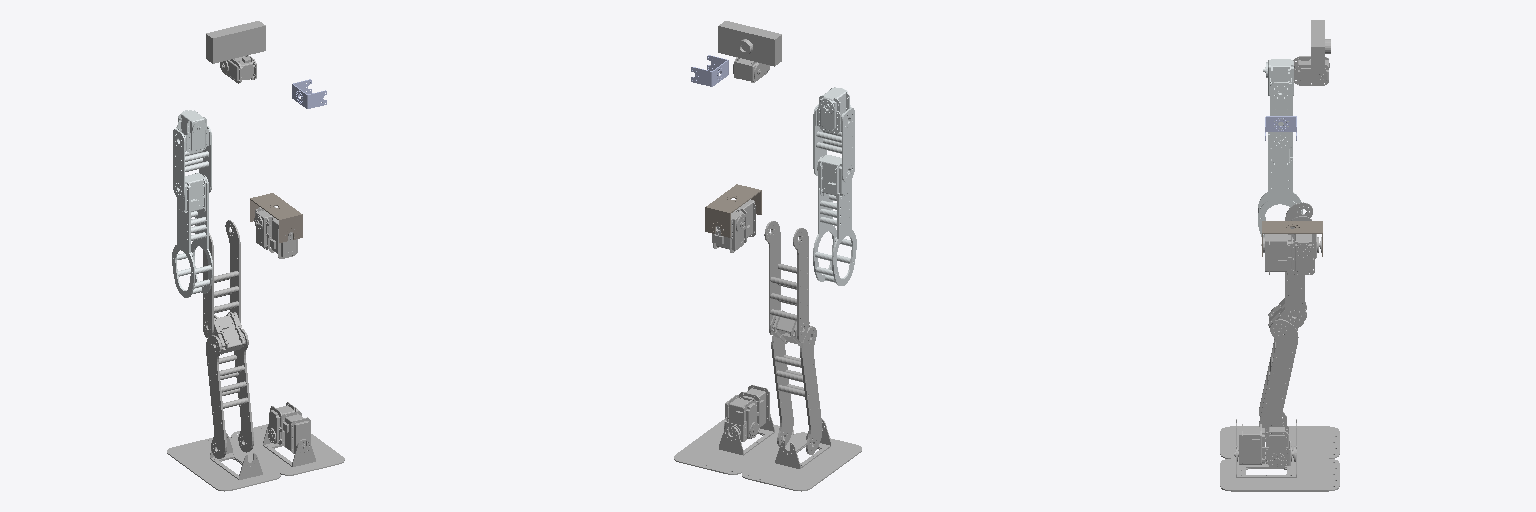
--- Render facts (derived) ---
The picture shows the robot from 3 angles, left to right: view 1: azimuth 30°, elevation 25°; view 2: azimuth 150°, elevation 25°; view 3: azimuth 270°, elevation 25°; orthographic projection.
Robot: SAKURA — 21 links, 20 joints (19 continuous, 1 fixed); root link world; default pose: every joint at zero.
Links seen in each view (by area): view 1: LLEG3, LARM2, LFOOT, LLEG2, HEAD, LARM1, RFOOT, RLEG4, RLEG0, RLEG1, RARM0; view 2: LFOOT, LARM2, LLEG2, LLEG3, RFOOT, LARM1, HEAD, RLEG4, RLEG0, RLEG1, RARM0; view 3: RFOOT, LLEG3, RLEG4, LFOOT, RLEG1, LARM1, LARM2, LLEG2, HEAD, RLEG0.
Boxes of the visible links, x1,y1,x2,y2 form: LLEG3: [206, 329, 253, 458]; LARM2: [172, 173, 212, 297]; LFOOT: [167, 433, 280, 491]; LLEG2: [203, 220, 245, 354]; HEAD: [206, 21, 265, 83]; LARM1: [173, 110, 211, 199]; RFOOT: [231, 424, 344, 475]; RLEG4: [268, 402, 310, 453]; RLEG0: [250, 193, 302, 242]; RLEG1: [254, 206, 297, 258]; RARM0: [292, 79, 326, 108]; LFOOT: [742, 419, 861, 491]; LARM2: [813, 155, 856, 285]; LLEG2: [764, 221, 810, 346]; LLEG3: [771, 326, 822, 454]; RFOOT: [674, 414, 793, 474]; LARM1: [813, 87, 854, 182]; HEAD: [718, 21, 781, 82]; RLEG4: [724, 385, 769, 441]; RLEG0: [705, 184, 761, 237]; RLEG1: [712, 199, 755, 252]; RARM0: [691, 55, 728, 86]; RFOOT: [1220, 446, 1339, 491]; LLEG3: [1259, 306, 1298, 437]; RLEG4: [1234, 424, 1295, 467]; LFOOT: [1220, 419, 1339, 458]; RLEG1: [1261, 234, 1321, 274]; LARM1: [1263, 59, 1293, 151]; LARM2: [1258, 132, 1302, 236]; LLEG2: [1268, 202, 1312, 331]; HEAD: [1293, 20, 1330, 85]; RLEG0: [1262, 221, 1322, 256].
Size in the robot's own frame: 0.291 by 0.208 by 0.8159 metres.
11 mesh visuals loaded from 20 distinct referenced files (11 binary STL); not drawn: 9 (reference not matched to a file when rendering).

The robot description file, URDF, robot "SAKURA":
<?xml version="1.0"?>
<robot
  name="SAKURA">
  <gazebo>
    <plugin filename="libgazebo_ros_control.so" name="gazebo_ros_control">
      <robotNamespace>/SAKURA</robotNamespace>
    </plugin>
  </gazebo>
  <gazebo reference="J_HEAD">
	<stopErp>0.2</stopErp>
  </gazebo>  
  <gazebo reference="J_LARM0">
	<stopErp>0.2</stopErp>
  </gazebo>  
  <gazebo reference="J_LARM1">
	<stopErp>0.2</stopErp>
  </gazebo>  
  <gazebo reference="J_LARM2">
	<stopErp>0.2</stopErp>
  </gazebo>  
  <gazebo reference="J_RARM0">
	<stopErp>0.2</stopErp>
  </gazebo>  
  <gazebo reference="J_RARM1">
	<stopErp>0.2</stopErp>
  </gazebo>  
  <gazebo reference="J_LLEG0">
	<stopErp>0.2</stopErp>
  </gazebo>  
  <gazebo reference="J_LLEG1">
	<stopErp>0.2</stopErp>
  </gazebo>  
  <gazebo reference="J_LLEG2">
	<stopErp>0.2</stopErp>
  </gazebo>  
  <gazebo reference="J_LLEG3">
	<stopErp>0.2</stopErp>
  </gazebo>  
  <gazebo reference="J_LLEG4">
	<stopErp>0.2</stopErp>
  </gazebo>  
  <gazebo reference="J_RLEG0">
	<stopErp>0.2</stopErp>
  </gazebo>  
  <gazebo reference="J_RLEG1">
	<stopErp>0.2</stopErp>
  </gazebo>  
  <gazebo reference="J_RLEG2">
	<stopErp>0.2</stopErp>
  </gazebo>  
  <gazebo reference="J_RLEG3">
	<stopErp>0.2</stopErp>
  </gazebo>  
  <gazebo reference="J_RLEG4">
	<stopErp>0.2</stopErp>
  </gazebo> 
  <gazebo reference="J_RARM2">
	<stopErp>0.2</stopErp>
  </gazebo> 
  <gazebo reference="J_LFOOT">
	<stopErp>0.2</stopErp>
  </gazebo>  
  <gazebo reference="J_RFOOT">
	<stopErp>0.2</stopErp>
  </gazebo>  
  <gazebo reference="RFOOT">
    <mu1>0.2</mu1>
    <mu2>0.2</mu2>
  </gazebo>
  <gazebo reference="LFOOT">
    <mu1>0.2</mu1>
    <mu2>0.2</mu2>
  </gazebo>
  <link name="world">  </link>
  <link
    name="TRUNK">
    <inertial>
      <origin
        xyz="-0.000142944293532541 -0.0159940135836359 0.119253638413231"
        rpy="0 0 0" />
      <mass
        value="1.4778155091901" />
      <inertia
        ixx="0.0125398154437975"
        ixy="-2.68478156217668E-06"
        ixz="-7.17353402812125E-06"
        iyy="0.016695640033345"
        iyz="0.000776177026664091"
        izz="0.01567882258573842" />
    </inertial>
    <visual>
      <origin
        xyz="0 0 0"
        rpy="0 0 0" />
      <geometry>
        <mesh
          filename="package://sakura_pkg/meshes/TRUNK.STL" />
      </geometry>
      <material
        name="">
        <color
          rgba="0.752941176470588 0.752941176470588 0.752941176470588 1" />
      </material>
    </visual>
  </link>
  <joint name="fixed" type="fixed">
    <parent link="world"/>
    <child link="TRUNK"/>
    <origin xyz="0 0 0.48" rpy="0 0 0"/>
  </joint>
  <link
    name="HEAD">
    <inertial>
      <origin
        xyz="-0.0038811 0.012249 0.048965"
        rpy="0 0 0" />
      <mass
        value="0.21462" />
      <inertia
        ixx="0.00010122"
        ixy="8.917E-07"
        ixz="4.6738E-06"
        iyy="9.789E-05"
        iyz="-1.8633E-05"
        izz="3.7787E-06" />
    </inertial>
    <visual>
      <origin
        xyz="0 0 0"
        rpy="0 0 0" />
      <geometry>
        <mesh
          filename="package://sakura_pkg/meshes/HEAD.STL" />
      </geometry>
      <material
        name="">
        <color
          rgba="0.75294 0.75294 0.75294 1" />
      </material>
    </visual>
    <collision>
      <origin
        xyz="0 0 0"
        rpy="0 0 0" />
      <geometry>
        <mesh
          filename="package://sakura_pkg/meshes/HEAD.STL" />
      </geometry>
    </collision>
  </link>
  <joint
    name="J_HEAD"
    type="continuous">
    <origin
      xyz="0.0016 0.01125 0.2484"
      rpy="-1.2005E-15 -9.4278E-17 -2.3904E-16" />
    <parent
      link="TRUNK" />
    <child
      link="HEAD" />
    <axis
      xyz="0 0 1" />
    <limit
      effort="10"
      velocity="8.58" />
    <dynamics 
	  damping="0.7"
	  friction="0.5"/>
  </joint>
  <link
    name="LARM0">
    <inertial>
      <origin
        xyz="4.16333634234434E-17 2.77555756156289E-17 0.0103025666414173"
        rpy="0 0 0" />
      <mass
        value="0.0066175226097181" />
      <inertia
        ixx="0"
        ixy="0"
        ixz="0"
        iyy="0"
        iyz="0"
        izz="0" />
    </inertial>
    <visual>
      <origin
        xyz="0 0 0"
        rpy="0 0 0" />
      <geometry>
        <mesh
          filename="package://sakura_pkg/meshes/LARM0.STL" />
      </geometry>
      <material
        name="">
        <color
          rgba="0.792156862745098 0.819607843137255 0.933333333333333 1" />
      </material>
    </visual>
    <collision>
      <origin
        xyz="0 0 0"
        rpy="0 0 0" />
      <geometry>
        <mesh
          filename="package://sakura_pkg/meshes/LARM0.STL" />
      </geometry>
    </collision>
  </link>
  <joint
    name="J_LARM0"
    type="continuous">
    <origin
      xyz="-0.0935 -0.038 0.209"
      rpy="1.5708 3.14159 -1.5708" />
    <parent
      link="TRUNK" />
    <child
      link="LARM0" />
    <axis
      xyz="0 0 -1" />
    <limit
      effort="10"
      velocity="8.58" />
    <dynamics 
	  damping="0.7"
	  friction="0.5"/>
  </joint>
  <link
    name="LARM1">
    <inertial>
      <origin
        xyz="-0.000203905909046856 -0.0358166170046635 -0.030724518771744"
        rpy="0 0 0" />
      <mass
        value="0.386889741732442" />
      <inertia
        ixx="0.000319462933467775"
        ixy="-7.00859671208955E-06"
        ixz="-6.33921748509821E-09"
        iyy="8.0452262350149E-05"
        iyz="6.46973244600118E-07"
        izz="0.000386423060557297" />
    </inertial>
    <visual>
      <origin
        xyz="0 0 0"
        rpy="0 0 0" />
      <geometry>
        <mesh
          filename="package://sakura_pkg/meshes/LARM1.STL" />
      </geometry>
      <material
        name="">
        <color
          rgba="0.898039215686275 0.92156862745098 0.929411764705882 1" />
      </material>
    </visual>
    <collision>
      <origin
        xyz="0 0 0"
        rpy="0 0 0" />
      <geometry>
        <mesh
          filename="package://sakura_pkg/meshes/LARM1.STL" />
      </geometry>
    </collision>
  </link>
  <joint
    name="J_LARM1"
    type="continuous">
    <origin
      xyz="-0.0308 0 0.036"
      rpy="3.1416 1.5708 0" />
    <parent
      link="LARM0" />
    <child
      link="LARM1" />
    <axis
      xyz="0 0 1" />
    <limit
      effort="10"
      velocity="8.58" />
    <dynamics 
	  damping="0.7"
	  friction="0.5"/>
  </joint>
  <link
    name="LARM2">
    <inertial>
      <origin
        xyz="-0.000946892853796732 -0.0604743903550126 -0.030549305382329"
        rpy="0 0 0" />
      <mass
        value="0.417770884687889" />
      <inertia
        ixx="0.00130365609096481"
        ixy="-2.20058971275383E-05"
        ixz="-1.13235654810576E-07"
        iyy="7.40162277479168E-05"
        iyz="-4.76741794550902E-06"
        izz="0.00130522583526536" />
    </inertial>
    <visual>
      <origin
        xyz="0 0 0"
        rpy="0 0 0" />
      <geometry>
        <mesh
          filename="package://sakura_pkg/meshes/LARM2.STL" />
      </geometry>
      <material
        name="">
        <color
          rgba="0.898039215686275 0.92156862745098 0.929411764705882 1" />
      </material>
    </visual>
    <collision>
      <origin
        xyz="0 0 0"
        rpy="0 0 0" />
      <geometry>
        <mesh
          filename="package://sakura_pkg/meshes/LARM2.STL" />
      </geometry>
    </collision>
  </link>
  <joint
    name="J_LARM2"
    type="continuous">
    <origin
      xyz="0.0307 -0.1235 -0.0308"
      rpy="0 1.5708 0" />
    <parent
      link="LARM1" />
    <child
      link="LARM2" />
    <axis
      xyz="0 0 1" />
    <limit
      effort="10"
      velocity="8.58" />
    <dynamics 
	  damping="0.7"
	  friction="0.5"/>
  </joint>
  <link
    name="RARM0">
    <inertial>
      <origin
        xyz="-4.16333634234434E-17 0 0.0103025666414173"
        rpy="0 0 0" />
      <mass
        value="0.00661752260971814" />
      <inertia
        ixx="0"
        ixy="0"
        ixz="0"
        iyy="0"
        iyz="0"
        izz="0" />
    </inertial>
    <visual>
      <origin
        xyz="0 0 0"
        rpy="0 0 0" />
      <geometry>
        <mesh
          filename="package://sakura_pkg/meshes/RARM0.STL" />
      </geometry>
      <material
        name="">
        <color
          rgba="0.792156862745098 0.819607843137255 0.933333333333333 1" />
      </material>
    </visual>
    <collision>
      <origin
        xyz="0 0 0"
        rpy="0 0 0" />
      <geometry>
        <mesh
          filename="package://sakura_pkg/meshes/RARM0.STL" />
      </geometry>
    </collision>
  </link>
  <joint
    name="J_RARM0"
    type="continuous">
    <origin
      xyz="0.0935 -0.038 0.209"
      rpy="-1.5708 -6.1121E-16 -1.5708" />
    <parent
      link="TRUNK" />
    <child
      link="RARM0" />
    <axis
      xyz="0 0 1" />
    <limit
      effort="10"
      velocity="8.58" />
    <dynamics 
	  damping="0.7"
	  friction="0.5"/>
  </joint>
  <link
    name="RARM1">
    <inertial>
      <origin
        xyz="-0.00020391 -0.035817 -0.030725"
        rpy="0 0 0" />
      <mass
        value="0.38689" />
      <inertia
        ixx="0.00031946"
        ixy="-7.0086E-06"
        ixz="-6.3392E-09"
        iyy="8.0452E-05"
        iyz="6.4697E-07"
        izz="0.00038642" />
    </inertial>
    <visual>
      <origin
        xyz="0 0 0"
        rpy="0 0 0" />
      <geometry>
        <mesh
          filename="package://sakura_pkg/meshes/RARM1.STL" />
      </geometry>
      <material
        name="">
        <color
          rgba="0.89804 0.92157 0.92941 1" />
      </material>
    </visual>
    <collision>
      <origin
        xyz="0 0 0"
        rpy="0 0 0" />
      <geometry>
        <mesh
          filename="package://sakura_pkg/meshes/RARM1.STL" />
      </geometry>
    </collision>
  </link>
  <joint
    name="J_RARM1"
    type="continuous">
    <origin
      xyz="-0.0308 0 0.036"
      rpy="3.1416 1.5708 0" />
    <parent
      link="RARM0" />
    <child
      link="RARM1" />
    <axis
      xyz="0 0 1" />
    <limit
      effort="10"
      velocity="8.58" />
    <dynamics 
	  damping="0.7"
	  friction="0.5"/>
  </joint>
  <link
    name="RARM2">
    <inertial>
      <origin
        xyz="-0.000946892853796774 -0.0604743903550127 -0.0305493053823289"
        rpy="0 0 0" />
      <mass
        value="0.417770884687889" />
      <inertia
        ixx="0.00130365609096481"
        ixy="-2.20058971275389E-05"
        ixz="-1.13235654810633E-07"
        iyy="7.40162277479169E-05"
        iyz="-4.76741794550966E-06"
        izz="0.00130522583526536" />
    </inertial>
    <visual>
      <origin
        xyz="0 0 0"
        rpy="0 0 0" />
      <geometry>
        <mesh
          filename="package://sakura_pkg/meshes/RARM2.STL" />
      </geometry>
      <material
        name="">
        <color
          rgba="0.898039215686275 0.92156862745098 0.929411764705882 1" />
      </material>
    </visual>
    <collision>
      <origin
        xyz="0 0 0"
        rpy="0 0 0" />
      <geometry>
        <mesh
          filename="package://sakura_pkg/meshes/RARM2.STL" />
      </geometry>
    </collision>
  </link>
  <joint
    name="J_RARM2"
    type="continuous">
    <origin
      xyz="0.0307 -0.1235 -0.0308"
      rpy="0 1.5708 0" />
    <parent
      link="RARM1" />
    <child
      link="RARM2" />
    <axis
      xyz="0 0 -1" />
    <limit
      effort="10"
      velocity="8.58" />
    <dynamics 
	  damping="0.7"
	  friction="0.5"/>
  </joint>
  <link
    name="LLEG0">
    <inertial>
      <origin
        xyz="1.38777878078145E-17 1.38777878078145E-17 0.012339611662812"
        rpy="0 0 0" />
      <mass
        value="0.137487098095279" />
      <inertia
        ixx="0"
        ixy="0"
        ixz="0"
        iyy="0"
        iyz="0"
        izz="0" />
    </inertial>
    <visual>
      <origin
        xyz="0 0 0"
        rpy="0 0 0" />
      <geometry>
        <mesh
          filename="package://sakura_pkg/meshes/LLEG0.STL" />
      </geometry>
      <material
        name="">
        <color
          rgba="0.650980392156863 0.619607843137255 0.588235294117647 1" />
      </material>
    </visual>
    <collision>
      <origin
        xyz="0 0 0"
        rpy="0 0 0" />
      <geometry>
        <mesh
          filename="package://sakura_pkg/meshes/LLEG0.STL" />
      </geometry>
    </collision>
  </link>
  <joint
    name="J_LLEG0"
    type="continuous">
    <origin
      xyz="-0.055 -0.018 -0.005"
      rpy="-3.14159265358979 1.21430643318376E-16 -1.5707963267949" />
    <parent
      link="TRUNK" />
    <child
      link="LLEG0" />
    <axis
      xyz="0 0 -1" />
    <limit
      effort="10"
      velocity="8.58" />
    <dynamics 
	  damping="0.7"
	  friction="0.5"/>
  </joint>
  <link
    name="LLEG1">
    <inertial>
      <origin
        xyz="-4.90216563097182E-05 -0.014933566350856 -0.0542307430726147"
        rpy="0 0 0" />
      <mass
        value="0.484317524341268" />
      <inertia
        ixx="0.000258532465487086"
        ixy="-1.08430216395215E-08"
        ixz="-4.93107012410751E-07"
        iyy="0.000256538006237082"
        iyz="8.86337248194806E-06"
        izz="4.00980160512074E-06" />
    </inertial>
    <visual>
      <origin
        xyz="0 0 0"
        rpy="0 0 0" />
      <geometry>
        <mesh
          filename="package://sakura_pkg/meshes/LLEG1.STL" />
      </geometry>
      <material
        name="">
        <color
          rgba="0.752941176470588 0.752941176470588 0.752941176470588 1" />
      </material>
    </visual>
    <collision>
      <origin
        xyz="0 0 0"
        rpy="0 0 0" />
      <geometry>
        <mesh
          filename="package://sakura_pkg/meshes/LLEG1.STL" />
      </geometry>
    </collision>
  </link>
  <joint
    name="J_LLEG1"
    type="continuous">
    <origin
      xyz="0.056 0 0.036"
      rpy="-1.5707963267949 -1.22338662637834E-16 -1.5707963267949" />
    <parent
      link="LLEG0" />
    <child
      link="LLEG1" />
    <axis
      xyz="0 0 -1" />
    <limit
      effort="10"
      velocity="8.58" />
    <dynamics 
	  damping="0.7"
	  friction="0.5"/>
  </joint>
  <link
    name="LLEG2">
    <inertial>
      <origin
        xyz="0.0896135033902749 -0.121669815792639 -0.0285739776731877"
        rpy="0 0 0" />
      <mass
        value="0.429581814867276" />
      <inertia
        ixx="0.000739443276879588"
        ixy="0.000469298592224479"
        ixz="-4.17657698668898E-06"
        iyy="0.00045781924000273"
        iyz="4.49877955818474E-06"
        izz="0.00100793675092908" />
    </inertial>
    <visual>
      <origin
        xyz="0 0 0"
        rpy="0 0 0" />
      <geometry>
        <mesh
          filename="package://sakura_pkg/meshes/LLEG2.STL" />
      </geometry>
      <material
        name="">
        <color
          rgba="0.752941176470588 0.752941176470588 0.752941176470588 1" />
      </material>
    </visual>
    <collision>
      <origin
        xyz="0 0 0"
        rpy="0 0 0" />
      <geometry>
        <mesh
          filename="package://sakura_pkg/meshes/LLEG2.STL" />
      </geometry>
    </collision>
  </link>
  <joint
    name="J_LLEG2"
    type="continuous">
    <origin
      xyz="0.0289999999999999 0 -0.0750000000000234"
      rpy="-1.5707963267949 0.78539816339745 -1.5707963267949" />
    <parent
      link="LLEG1" />
    <child
      link="LLEG2" />
    <axis
      xyz="0 0 1" />
    <limit
      effort="10"
      velocity="8.58" />
    <dynamics 
	  damping="0.7"
	  friction="0.5"/>
  </joint>
  <link
    name="LLEG3">
    <inertial>
      <origin
        xyz="0.0938607247050214 0.021121469241447 -0.0266864244548486"
        rpy="0 0 0" />
      <mass
        value="0.253457988874213" />
      <inertia
        ixx="0.000157893827081503"
        ixy="4.33507693026071E-06"
        ixz="2.38137513758817E-06"
        iyy="0.000215254509125973"
        iyz="4.49605098935315E-06"
        izz="7.90936329999813E-05" />
    </inertial>
    <visual>
      <origin
        xyz="0 0 0"
        rpy="0 0 0" />
      <geometry>
        <mesh
          filename="package://sakura_pkg/meshes/LLEG3.STL" />
      </geometry>
      <material
        name="">
        <color
          rgba="0.752941176470588 0.752941176470588 0.752941176470588 1" />
      </material>
    </visual>
    <collision>
      <origin
        xyz="0 0 0"
        rpy="0 0 0" />
      <geometry>
        <mesh
          filename="package://sakura_pkg/meshes/LLEG3.STL" />
      </geometry>
    </collision>
  </link>
  <joint
    name="J_LLEG3"
    type="continuous">
    <origin
      xyz="0.112429978208667 -0.169643181644254 0.00160000000000024"
      rpy="-0.0320557226319531 0.0283578707512148 -1.01721646459287" />
    <parent
      link="LLEG2" />
    <child
      link="LLEG3" />
    <axis
      xyz="0.0283540701513945 0.0320373469653184 -0.999084408398647" />
    <limit
      effort="10"
      velocity="8.58" />
    <dynamics 
	  damping="0.7"
	  friction="0.5"/>
  </joint>
  <link
    name="LLEG4">
    <inertial>
      <origin
        xyz="0.0207692569273853 -0.0149335663508559 -0.0309509783436903"
        rpy="0 0 0" />
      <mass
        value="0.484317524341267" />
      <inertia
        ixx="4.00980160512071E-06"
        ixy="8.86337248194725E-06"
        ixz="4.93107012410836E-07"
        iyy="0.000256538006237082"
        iyz="1.08430216395228E-08"
        izz="0.000258532465487085" />
    </inertial>
    <visual>
      <origin
        xyz="0 0 0"
        rpy="0 0 0" />
      <geometry>
        <mesh
          filename="package://sakura_pkg/meshes/LLEG4.STL" />
      </geometry>
      <material
        name="">
        <color
          rgba="0.752941176470588 0.752941176470588 0.752941176470588 1" />
      </material>
    </visual>
    <collision>
      <origin
        xyz="0 0 0"
        rpy="0 0 0" />
      <geometry>
        <mesh
          filename="package://sakura_pkg/meshes/LLEG4.STL" />
      </geometry>
    </collision>
  </link>
  <joint
    name="J_LLEG4"
    type="continuous">
    <origin
      xyz="0.19759 0.040682 0.007913"
      rpy="0.034963 0.024684 -1.339" />
    <parent
      link="LLEG3" />
    <child
      link="LLEG4" />
    <axis
      xyz="0 0 1" />
    <limit
      effort="10"
      velocity="8.58" />
    <dynamics 
	  damping="0.7"
	  friction="0.5"/>
  </joint>
  <link
    name="LFOOT">
    <inertial>
      <origin
        xyz="-0.00984398078216434 0.033081446163245 0.0742424926896279"
        rpy="0 0 0" />
      <mass
        value="0.474832547151362" />
      <inertia
        ixx="5.51319710395952E-05"
        ixy="8.95545085142721E-06"
        ixz="2.1883900378474E-05"
        iyy="5.73648543375659E-05"
        iyz="-1.93251189181957E-05"
        izz="1.80495475741546E-05" />
    </inertial>
    <visual>
      <origin
        xyz="0 0 0"
        rpy="0 0 0" />
      <geometry>
        <mesh
          filename="package://sakura_pkg/meshes/LFOOT.STL" />
      </geometry>
      <material
        name="">
        <color
          rgba="0.752941176470588 0.752941176470588 0.752941176470588 1" />
      </material>
    </visual>
    <collision>
      <origin
        xyz="0 0 0"
        rpy="0 0 0" />
      <geometry>
        <mesh
          filename="package://sakura_pkg/meshes/LFOOT.STL" />
      </geometry>
    </collision>
  </link>
  <joint
    name="J_LFOOT"
    type="continuous">
    <origin
      xyz="0.072 0 -0.031"
      rpy="0 -1.5708 0" />
    <parent
      link="LLEG4" />
    <child
      link="LFOOT" />
    <axis
      xyz="0 0 -1" />
    <limit
      effort="10"
      velocity="8.58" />
    <dynamics 
	  damping="0.7"
	  friction="0.5"/>
  </joint>
  <link
    name="RLEG0">
    <inertial>
      <origin
        xyz="0 1.38777878078145E-17 0.012339611662812"
        rpy="0 0 0" />
      <mass
        value="0.137487098095279" />
      <inertia
        ixx="0"
        ixy="0"
        ixz="0"
        iyy="0"
        iyz="0"
        izz="0" />
    </inertial>
    <visual>
      <origin
        xyz="0 0 0"
        rpy="0 0 0" />
      <geometry>
        <mesh
          filename="package://sakura_pkg/meshes/RLEG0.STL" />
      </geometry>
      <material
        name="">
        <color
          rgba="0.650980392156863 0.619607843137255 0.588235294117647 1" />
      </material>
    </visual>
    <collision>
      <origin
        xyz="0 0 0"
        rpy="0 0 0" />
      <geometry>
        <mesh
          filename="package://sakura_pkg/meshes/RLEG0.STL" />
      </geometry>
    </collision>
  </link>
  <joint
    name="J_RLEG0"
    type="continuous">
    <origin
      xyz="0.055 -0.018 -0.005"
      rpy="-3.14159265358979 1.21430643318376E-16 -1.5707963267949" />
    <parent
      link="TRUNK" />
    <child
      link="RLEG0" />
    <axis
      xyz="0 0 1" />
    <limit
      effort="10"
      velocity="8.58" />
    <dynamics 
	  damping="0.7"
	  friction="0.5"/>
  </joint>
  <link
    name="RLEG1">
    <inertial>
      <origin
        xyz="-4.9022E-05 -0.014934 -0.054231"
        rpy="0 0 0" />
      <mass
        value="0.48432" />
      <inertia
        ixx="0.00025853"
        ixy="-1.0843E-08"
        ixz="-4.9311E-07"
        iyy="0.00025654"
        iyz="8.8634E-06"
        izz="4.0098E-06" />
    </inertial>
    <visual>
      <origin
        xyz="0 0 0"
        rpy="0 0 0" />
      <geometry>
        <mesh
          filename="package://sakura_pkg/meshes/RLEG1.STL" />
      </geometry>
      <material
        name="">
        <color
          rgba="0.75294 0.75294 0.75294 1" />
      </material>
    </visual>
    <collision>
      <origin
        xyz="0 0 0"
        rpy="0 0 0" />
      <geometry>
        <mesh
          filename="package://sakura_pkg/meshes/RLEG1.STL" />
      </geometry>
    </collision>
  </link>
  <joint
    name="J_RLEG1"
    type="continuous">
    <origin
      xyz="0.056 0 0.036"
      rpy="-1.5707963267949 2.66239395980971E-16 -1.5707963267949" />
    <parent
      link="RLEG0" />
    <child
      link="RLEG1" />
    <axis
      xyz="0 0 1" />
    <limit
      effort="10"
      velocity="8.58" />
    <dynamics 
	  damping="0.7"
	  friction="0.5"/>
  </joint>
  <link
    name="RLEG2">
    <inertial>
      <origin
        xyz="0.089613503390275 -0.121669815792639 -0.0285739776731877"
        rpy="0 0 0" />
      <mass
        value="0.429581814867276" />
      <inertia
        ixx="0.000739443276879589"
        ixy="0.00046929859222448"
        ixz="-4.17657698668821E-06"
        iyy="0.000457819240002731"
        iyz="4.49877955818371E-06"
        izz="0.00100793675092908" />
    </inertial>
    <visual>
      <origin
        xyz="0 0 0"
        rpy="0 0 0" />
      <geometry>
        <mesh
          filename="package://sakura_pkg/meshes/RLEG2.STL" />
      </geometry>
      <material
        name="">
        <color
          rgba="0.752941176470588 0.752941176470588 0.752941176470588 1" />
      </material>
    </visual>
    <collision>
      <origin
        xyz="0 0 0"
        rpy="0 0 0" />
      <geometry>
        <mesh
          filename="package://sakura_pkg/meshes/RLEG2.STL" />
      </geometry>
    </collision>
  </link>
  <joint
    name="J_RLEG2"
    type="continuous">
    <origin
      xyz="0.0290000000000001 0 -0.075"
      rpy="-1.5707963267949 0.78539816339745 -1.5707963267949" />
    <parent
      link="RLEG1" />
    <child
      link="RLEG2" />
    <axis
      xyz="0 0 1" />
    <limit
      effort="10"
      velocity="8.58" />
    <dynamics 
	  damping="0.7"
	  friction="0.5"/>
  </joint>
  <link
    name="RLEG3">
    <inertial>
      <origin
        xyz="0.093861 0.021121 -0.026686"
        rpy="0 0 0" />
      <mass
        value="0.25346" />
      <inertia
        ixx="0.00015789"
        ixy="4.3351E-06"
        ixz="2.3814E-06"
        iyy="0.00021525"
        iyz="4.4961E-06"
        izz="7.9094E-05" />
    </inertial>
    <visual>
      <origin
        xyz="0 0 0"
        rpy="0 0 0" />
      <geometry>
        <mesh
          filename="package://sakura_pkg/meshes/RLEG3.STL" />
      </geometry>
      <material
        name="">
        <color
          rgba="0.75294 0.75294 0.75294 1" />
      </material>
    </visual>
    <collision>
      <origin
        xyz="0 0 0"
        rpy="0 0 0" />
      <geometry>
        <mesh
          filename="package://sakura_pkg/meshes/RLEG3.STL" />
      </geometry>
    </collision>
  </link>
  <joint
    name="J_RLEG3"
    type="continuous">
    <origin
      xyz="0.112429978208668 -0.169643181644253 0.00160000000000014"
      rpy="-0.0320557226319534 0.0283578707512146 -1.01721646459286" />
    <parent
      link="RLEG2" />
    <child
      link="RLEG3" />
    <axis
      xyz="0.0283540701513948 0.0320373469653193 -0.999084408398647" />
    <limit
      effort="10"
      velocity="8.58" />
    <dynamics 
	  damping="0.7"
	  friction="0.5"/>
  </joint>
  <link
    name="RLEG4">
    <inertial>
      <origin
        xyz="0.0207692569273853 -0.014933566350856 -0.0309509783436903"
        rpy="0 0 0" />
      <mass
        value="0.484317524341268" />
      <inertia
        ixx="4.00980160512071E-06"
        ixy="8.86337248194835E-06"
        ixz="4.93107012410999E-07"
        iyy="0.000256538006237082"
        iyz="1.08430216395282E-08"
        izz="0.000258532465487085" />
    </inertial>
    <visual>
      <origin
        xyz="0 0 0"
        rpy="0 0 0" />
      <geometry>
        <mesh
          filename="package://sakura_pkg/meshes/RLEG4.STL" />
      </geometry>
      <material
        name="">
        <color
          rgba="0.752941176470588 0.752941176470588 0.752941176470588 1" />
      </material>
    </visual>
    <collision>
      <origin
        xyz="0 0 0"
        rpy="0 0 0" />
      <geometry>
        <mesh
          filename="package://sakura_pkg/meshes/RLEG4.STL" />
      </geometry>
    </collision>
  </link>
  <joint
    name="J_RLEG4"
    type="continuous">
    <origin
      xyz="0.19759 0.040682 0.007913"
      rpy="0.034963 0.024684 -1.339" />
    <parent
      link="RLEG3" />
    <child
      link="RLEG4" />
    <axis
      xyz="0 0 1" />
    <limit
      effort="10"
      velocity="8.58" />
    <dynamics 
	  damping="0.7"
	  friction="0.5"/>
  </joint>
  <link
    name="RFOOT">
    <inertial>
      <origin
        xyz="0.009844 0.033081 0.074242"
        rpy="0 0 0" />
      <mass
        value="0.47483" />
      <inertia
        ixx="5.5132E-05"
        ixy="-8.9555E-06"
        ixz="-2.1884E-05"
        iyy="5.7365E-05"
        iyz="-1.9325E-05"
        izz="1.805E-05" />
    </inertial>
    <visual>
      <origin
        xyz="0 0 0"
        rpy="0 0 0" />
      <geometry>
        <mesh
          filename="package://sakura_pkg/meshes/RFOOT.STL" />
      </geometry>
      <material
        name="">
        <color
          rgba="0.75294 0.75294 0.75294 1" />
      </material>
    </visual>
    <collision>
      <origin
        xyz="0 0 0"
        rpy="0 0 0" />
      <geometry>
        <mesh
          filename="package://sakura_pkg/meshes/RFOOT.STL" />
      </geometry>
    </collision>
  </link>
  <joint
    name="J_RFOOT"
    type="continuous">
    <origin
      xyz="0.072 0 -0.031"
      rpy="0 -1.5708 0" />
    <parent
      link="RLEG4" />
    <child
      link="RFOOT" />
    <axis
      xyz="0 0 -1" />
    <limit
      effort="10"
      velocity="8.58" />
    <dynamics 
	  damping="0.7"
	  friction="0.5"/>
  </joint>  

  
  <transmission name="T_RARM0">
	<type>transmission_interface/SimpleTransmission</type>
	<joint name="J_RARM0">
	  <hardwareInterface>hardware_interface/EffortJointInterface</hardwareInterface>
	</joint>
	<actuator name="M_RARM0">
	  <hardwareInterface>hardware_interface/EffortJointInterface</hardwareInterface>
	  <mechanicalReduction>1</mechanicalReduction>
	</actuator>
  </transmission>

  <transmission name="T_RARM1">
	<type>transmission_interface/SimpleTransmission</type>
	<joint name="J_RARM1">
	  <hardwareInterface>hardware_interface/EffortJointInterface</hardwareInterface>
	</joint>
	<actuator name="M_RARM1">
	  <hardwareInterface>hardware_interface/EffortJointInterface</hardwareInterface>
	  <mechanicalReduction>1</mechanicalReduction>
	</actuator>
  </transmission>
  
    <transmission name="T_RARM2">
	<type>transmission_interface/SimpleTransmission</type>
	<joint name="J_RARM2">
	  <hardwareInterface>hardware_interface/EffortJointInterface</hardwareInterface>
	</joint>
	<actuator name="M_RARM2">
	  <hardwareInterface>hardware_interface/EffortJointInterface</hardwareInterface>
	  <mechanicalReduction>1</mechanicalReduction>
	</actuator>
  </transmission>
  
    <transmission name="T_LARM0">
	<type>transmission_interface/SimpleTransmission</type>
	<joint name="J_LARM0">
	  <hardwareInterface>hardware_interface/EffortJointInterface</hardwareInterface>
	</joint>
	<actuator name="M_LARM0">
	  <hardwareInterface>hardware_interface/EffortJointInterface</hardwareInterface>
	  <mechanicalReduction>1</mechanicalReduction>
	</actuator>
  </transmission>

  <transmission name="T_LARM1">
	<type>transmission_interface/SimpleTransmission</type>
	<joint name="J_LARM1">
	  <hardwareInterface>hardware_interface/EffortJointInterface</hardwareInterface>
	</joint>
	<actuator name="M_LARM1">
	  <hardwareInterface>hardware_interface/EffortJointInterface</hardwareInterface>
	  <mechanicalReduction>1</mechanicalReduction>
	</actuator>
  </transmission>
  
    <transmission name="T_LARM2">
	<type>transmission_interface/SimpleTransmission</type>
	<joint name="J_LARM2">
	  <hardwareInterface>hardware_interface/EffortJointInterface</hardwareInterface>
	</joint>
	<actuator name="M_LARM2">
	  <hardwareInterface>hardware_interface/EffortJointInterface</hardwareInterface>
	  <mechanicalReduction>1</mechanicalReduction>
	</actuator>
  </transmission>

  
  
  
    <transmission name="T_RLEG0">
	<type>transmission_interface/SimpleTransmission</type>
	<joint name="J_RLEG0">
	  <hardwareInterface>hardware_interface/EffortJointInterface</hardwareInterface>
	</joint>
	<actuator name="M_RLEG0">
	  <hardwareInterface>hardware_interface/EffortJointInterface</hardwareInterface>
	  <mechanicalReduction>1</mechanicalReduction>
	</actuator>
  </transmission>

  <transmission name="T_RLEG1">
	<type>transmission_interface/SimpleTransmission</type>
	<joint name="J_RLEG1">
	  <hardwareInterface>hardware_interface/EffortJointInterface</hardwareInterface>
	</joint>
	<actuator name="M_RLEG1">
	  <hardwareInterface>hardware_interface/EffortJointInterface</hardwareInterface>
	  <mechanicalReduction>1</mechanicalReduction>
	</actuator>
  </transmission>
  
    <transmission name="T_RLEG2">
	<type>transmission_interface/SimpleTransmission</type>
	<joint name="J_RLEG2">
	  <hardwareInterface>hardware_interface/EffortJointInterface</hardwareInterface>
	</joint>
	<actuator name="M_RLEG2">
	  <hardwareInterface>hardware_interface/EffortJointInterface</hardwareInterface>
	  <mechanicalReduction>1</mechanicalReduction>
	</actuator>
  </transmission>
  
    <transmission name="T_RLEG3">
	<type>transmission_interface/SimpleTransmission</type>
	<joint name="J_RLEG3">
	  <hardwareInterface>hardware_interface/EffortJointInterface</hardwareInterface>
	</joint>
	<actuator name="M_RLEG3">
	  <hardwareInterface>hardware_interface/EffortJointInterface</hardwareInterface>
	  <mechanicalReduction>1</mechanicalReduction>
	</actuator>
  </transmission>
  
   <transmission name="T_RLEG4">
	<type>transmission_interface/SimpleTransmission</type>
	<joint name="J_RLEG4">
	  <hardwareInterface>hardware_interface/EffortJointInterface</hardwareInterface>
	</joint>
	<actuator name="M_RLEG4">
	  <hardwareInterface>hardware_interface/EffortJointInterface</hardwareInterface>
	  <mechanicalReduction>1</mechanicalReduction>
	</actuator>
  </transmission>
  
  <transmission name="T_RFOOT">
	<type>transmission_interface/SimpleTransmission</type>
	<joint name="J_RFOOT">
	  <hardwareInterface>hardware_interface/EffortJointInterface</hardwareInterface>
	</joint>
	<actuator name="M_RFOOT">
	  <hardwareInterface>hardware_interface/EffortJointInterface</hardwareInterface>
	  <mechanicalReduction>1</mechanicalReduction>
	</actuator>
  </transmission>


    <transmission name="T_LLEG0">
	<type>transmission_interface/SimpleTransmission</type>
	<joint name="J_LLEG0">
	  <hardwareInterface>hardware_interface/EffortJointInterface</hardwareInterface>
	</joint>
	<actuator name="M_LLEG0">
	  <hardwareInterface>hardware_interface/EffortJointInterface</hardwareInterface>
	  <mechanicalReduction>1</mechanicalReduction>
	</actuator>
  </transmission>

  <transmission name="T_LLEG1">
	<type>transmission_interface/SimpleTransmission</type>
	<joint name="J_LLEG1">
	  <hardwareInterface>hardware_interface/EffortJointInterface</hardwareInterface>
	</joint>
	<actuator name="M_LLEG1">
	  <hardwareInterface>hardware_interface/EffortJointInterface</hardwareInterface>
	  <mechanicalReduction>1</mechanicalReduction>
	</actuator>
  </transmission>
  
    <transmission name="T_LLEG2">
	<type>transmission_interface/SimpleTransmission</type>
	<joint name="J_LLEG2">
	  <hardwareInterface>hardware_interface/EffortJointInterface</hardwareInterface>
	</joint>
	<actuator name="M_LLEG2">
	  <hardwareInterface>hardware_interface/EffortJointInterface</hardwareInterface>
	  <mechanicalReduction>1</mechanicalReduction>
	</actuator>
  </transmission>
  
    <transmission name="T_LLEG3">
	<type>transmission_interface/SimpleTransmission</type>
	<joint name="J_LLEG3">
	  <hardwareInterface>hardware_interface/EffortJointInterface</hardwareInterface>
	</joint>
	<actuator name="M_LLEG3">
	  <hardwareInterface>hardware_interface/EffortJointInterface</hardwareInterface>
	  <mechanicalReduction>1</mechanicalReduction>
	</actuator>
  </transmission>
  
   <transmission name="T_LLEG4">
	<type>transmission_interface/SimpleTransmission</type>
	<joint name="J_LLEG4">
	  <hardwareInterface>hardware_interface/EffortJointInterface</hardwareInterface>
	</joint>
	<actuator name="M_LLEG4">
	  <hardwareInterface>hardware_interface/EffortJointInterface</hardwareInterface>
	  <mechanicalReduction>1</mechanicalReduction>
	</actuator>
  </transmission>
  
  <transmission name="T_LFOOT">
	<type>transmission_interface/SimpleTransmission</type>
	<joint name="J_LFOOT">
	  <hardwareInterface>hardware_interface/EffortJointInterface</hardwareInterface>
	</joint>
	<actuator name="M_LFOOT">
	  <hardwareInterface>hardware_interface/EffortJointInterface</hardwareInterface>
	  <mechanicalReduction>1</mechanicalReduction>
	</actuator>
  </transmission>



  
</robot>
